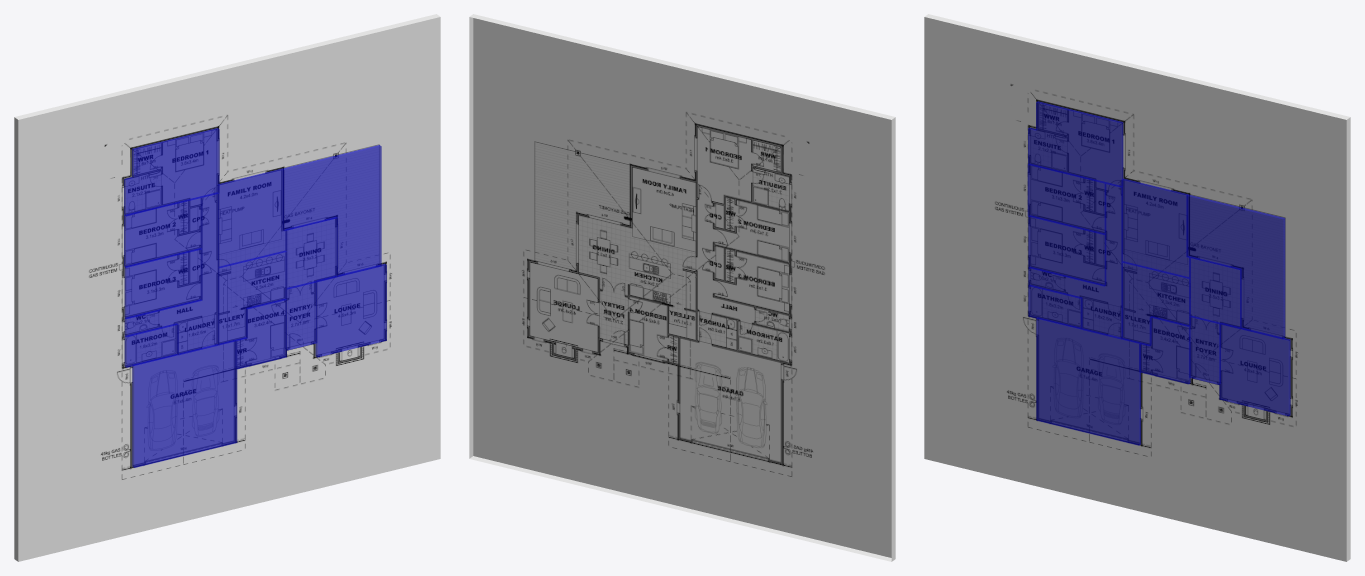
The model's file is 3DGui_Mesh.fbx.
3 renders of one model, left to right at view 1: azimuth 30°, elevation 25°; view 2: azimuth 150°, elevation 25°; view 3: azimuth 330°, elevation 25°, orthographic.
Visible parts, largest first — view 1: Plan1, Garage, Deck, Bed1, Family, Lounge, Hall, Kitchen, Bed2, bedroom3, dining, Bedroom (+2 smaller); view 2: Plan1; view 3: Plan1, Garage, Deck, Bed1, Family, Lounge, Hall, Kitchen, Bed2, bedroom3, dining, Bedroom (+2 smaller).
Part boxes in pixels (box(x1,y1,x2,y2)): Plan1: box(14, 14, 440, 561); Garage: box(132, 340, 237, 467); Deck: box(283, 145, 381, 276); Bed1: box(124, 128, 219, 216); Family: box(218, 168, 287, 267); Lounge: box(315, 264, 386, 357); Hall: box(124, 192, 219, 354); Kitchen: box(218, 251, 287, 344); Bed2: box(124, 196, 202, 267); bedroom3: box(124, 248, 202, 318); dining: box(285, 217, 337, 289); Bedroom: box(235, 299, 286, 369); Plan1: box(469, 14, 895, 561); Plan1: box(924, 14, 1350, 561); Garage: box(1036, 317, 1140, 445); Deck: box(1186, 194, 1285, 339); Bed1: box(1028, 101, 1123, 187); Family: box(1121, 178, 1190, 278); Lounge: box(1219, 323, 1290, 416); Hall: box(1028, 182, 1122, 339); Kitchen: box(1121, 261, 1190, 346); Bed2: box(1027, 164, 1105, 234); bedroom3: box(1028, 215, 1105, 286); dining: box(1189, 257, 1241, 328); Bedroom: box(1139, 316, 1190, 384).
Size of the model in its own units: 40 by 40 by 1.
2 materials, 1 textured.
